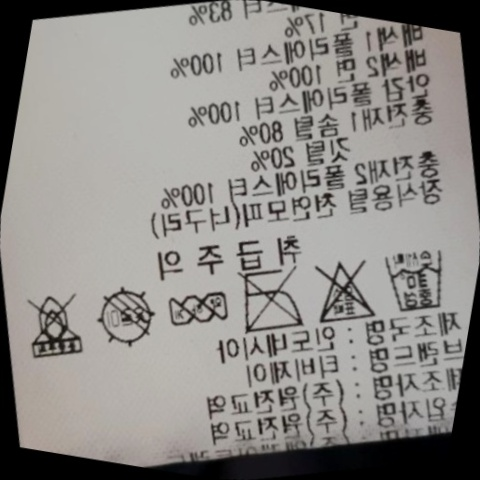DN_iron: (224, 254, 318, 348)
hand_wash: (366, 233, 460, 328)
line_dry_in_shade: (80, 273, 166, 361)
non_chlorine_bleach: (293, 237, 389, 338)
wring: (153, 274, 237, 342)
